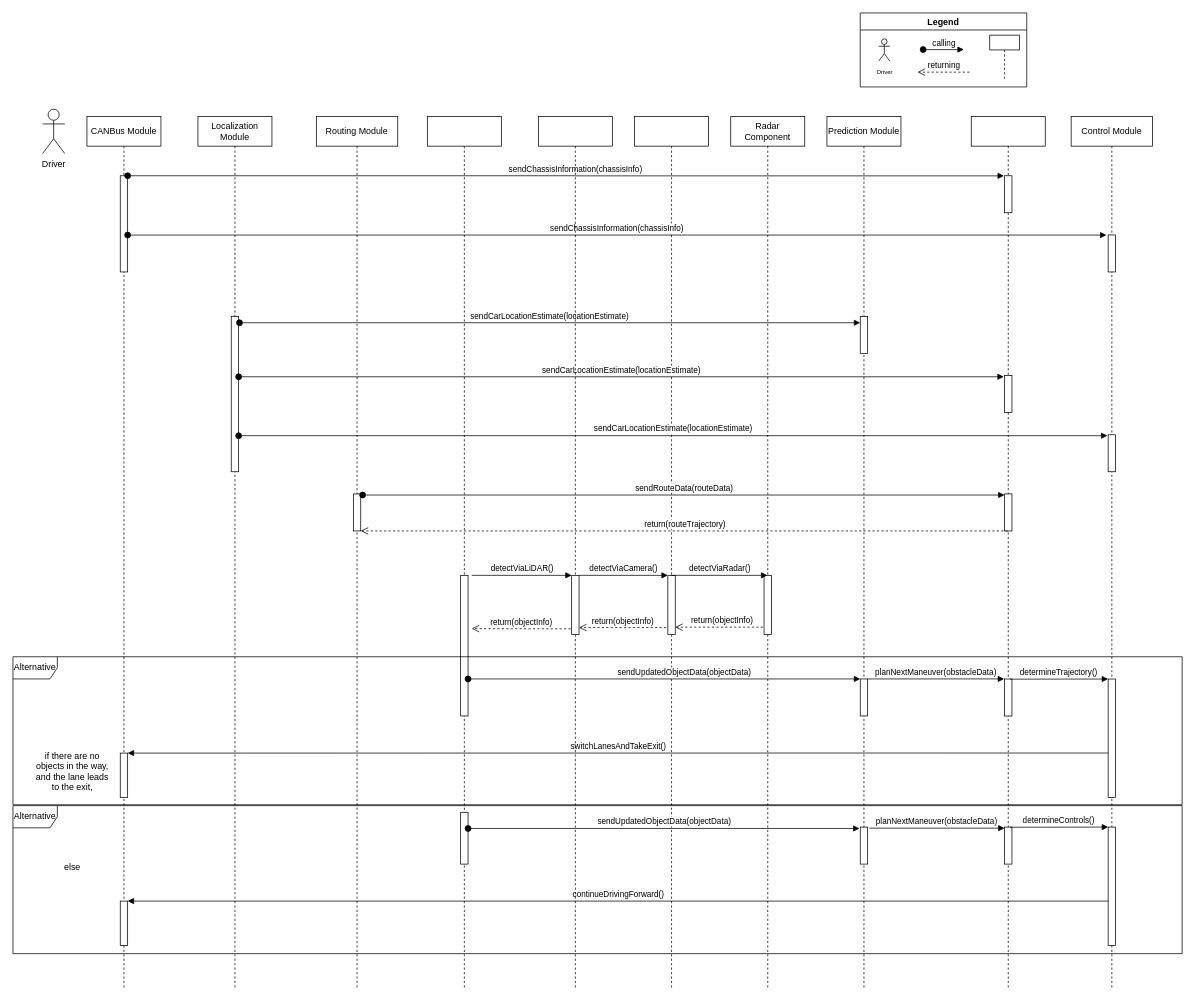
Some shapes in this 1195 by 1003 pixel diagram are drawn without their labels. Here are the shapes that lost their labels. From the top down, the centre of each, then its label:
At pixel 1004 57: "subsystem".
At pixel 464 553: "Perception Module".
At pixel 575 553: "LiDAR Component".
At pixel 671 553: "Camera Component".
At pixel 1008 553: "Planning Module".
